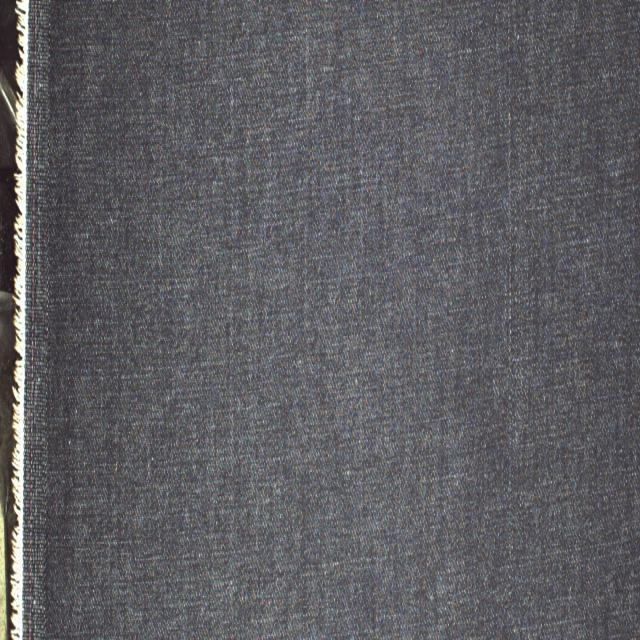pulled_or_thick_thread: (504, 3, 514, 624)
